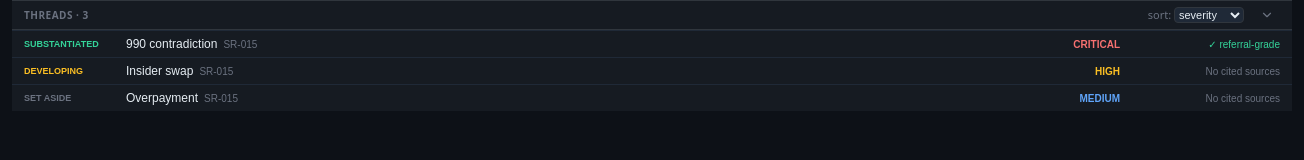
it: ThreadDock › collapses to the header when toggled
The image size is (1304, 160).
Click the button named "collapse threads".
click(1267, 15)  # box [1254,7,1280,23]
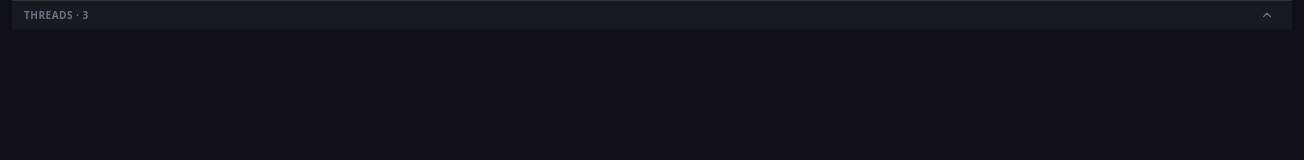
Now the button "Insider swap" is gone
